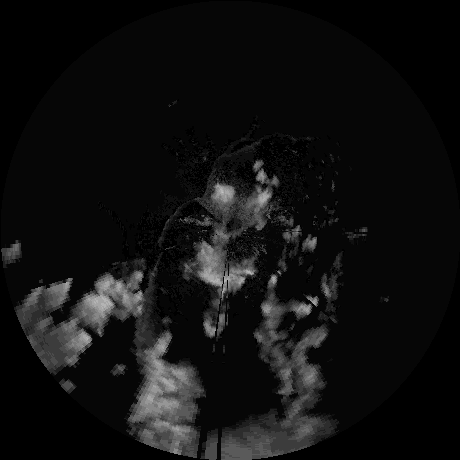frontgust: (153, 197, 200, 279), (205, 139, 261, 197)
